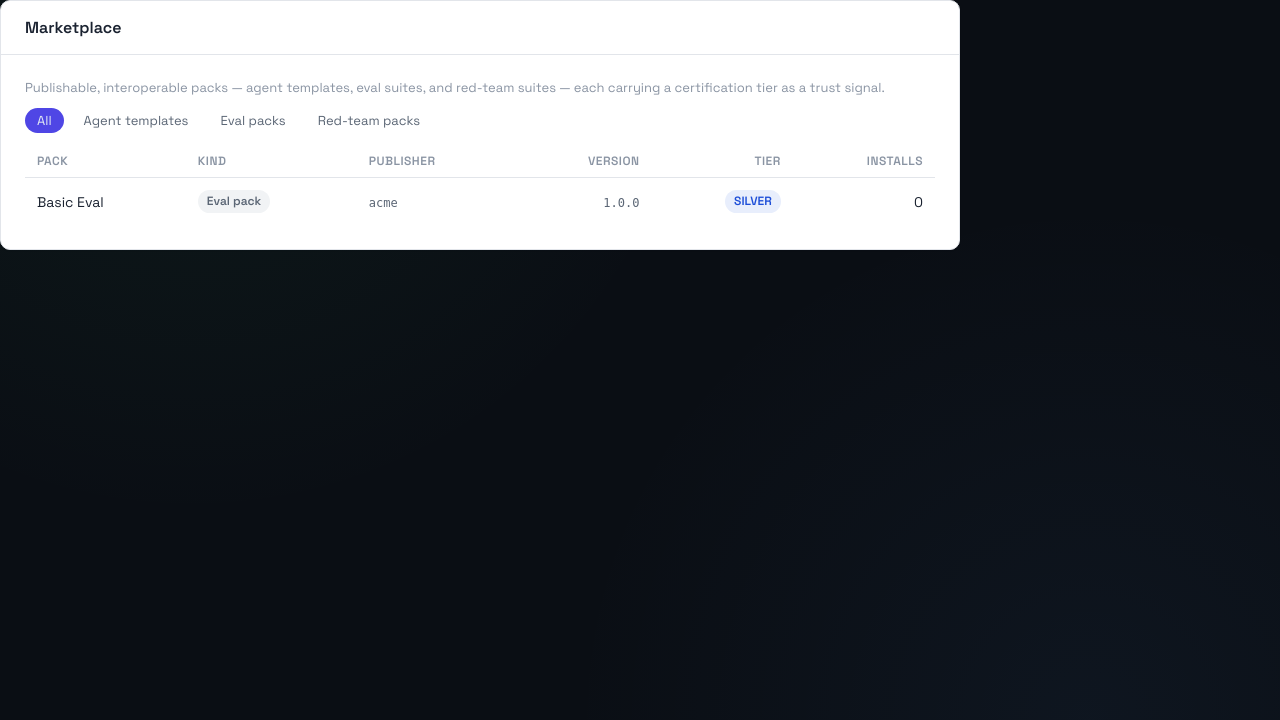
Test case: MarketplaceScreen (S114) › shows an empty message when a filter matches nothing
Expected: the text "SILVER" is shown, [725,190,781,213]
Click the button with test id "market-filter-agent_template" at (136, 120), box [72,108,200,133]
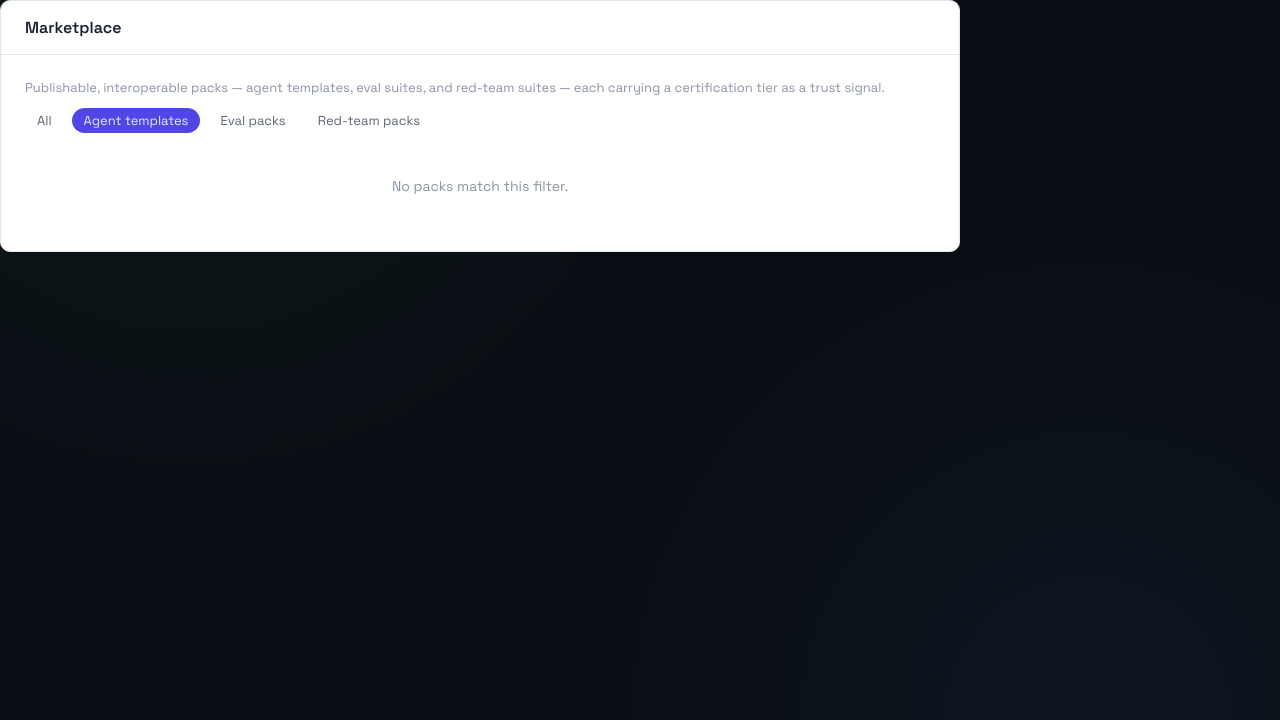
Now the element with test id "marketplace-screen" shows "No packs match this filter.", box [392,177,568,195]
